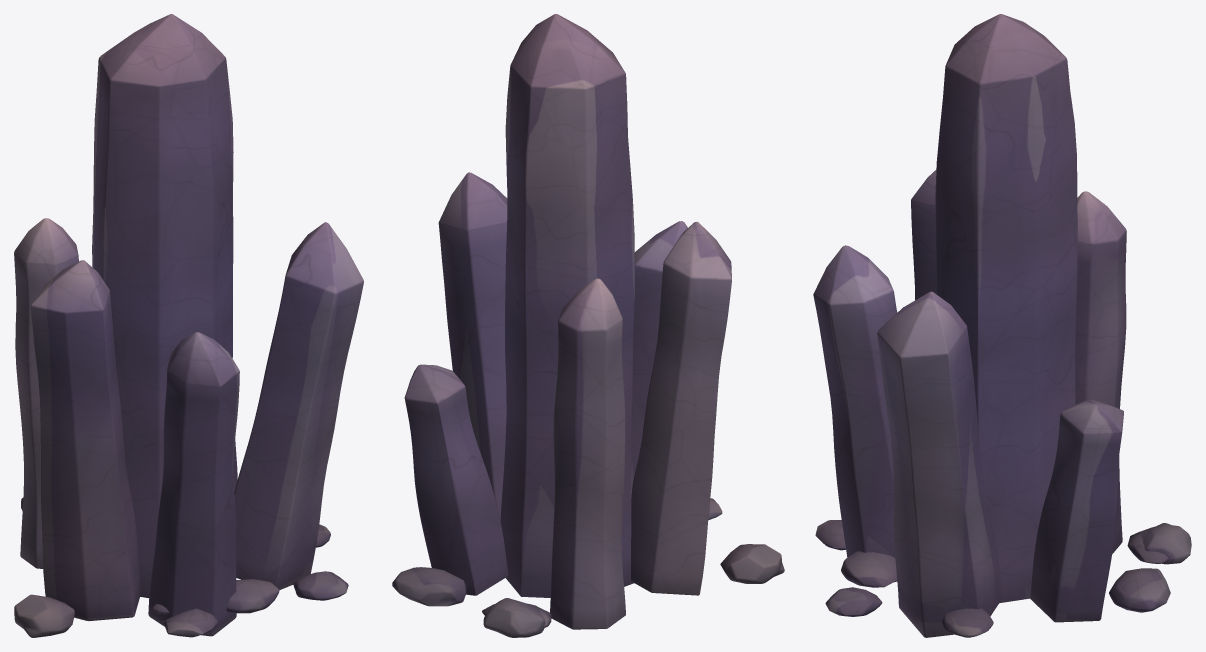
File: WM_BasaltSpikes_A.fbx
3 renders of one model, left to right at view 1: azimuth 30°, elevation 25°; view 2: azimuth 150°, elevation 25°; view 3: azimuth 270°, elevation 25°, orthographic. The views are drawn at different scales.
Parts seen in each view (by area): view 1: WM_BasaltSpikes_A_LOD0; view 2: WM_BasaltSpikes_A_LOD0; view 3: WM_BasaltSpikes_A_LOD0.
Part boxes in pixels (bbox=[...]): WM_BasaltSpikes_A_LOD0: bbox=[14, 14, 363, 637]; WM_BasaltSpikes_A_LOD0: bbox=[392, 14, 784, 637]; WM_BasaltSpikes_A_LOD0: bbox=[813, 14, 1191, 637].
Size of what is drawn, in the model's own units: 1.52 by 2.46 by 1.47.
